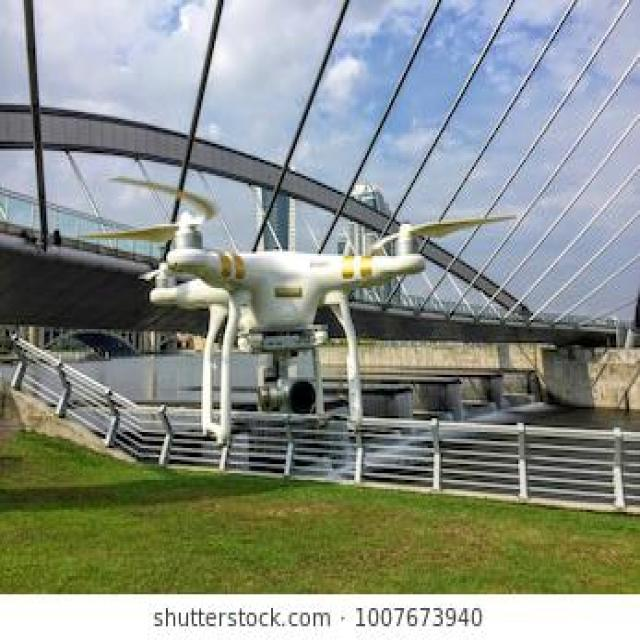drone: (69, 166, 524, 438)
